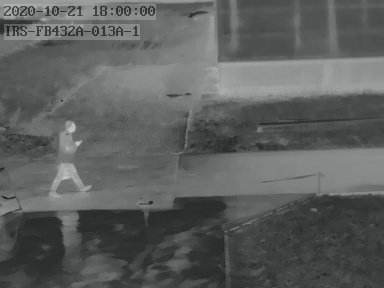person: (50, 119, 90, 195)
